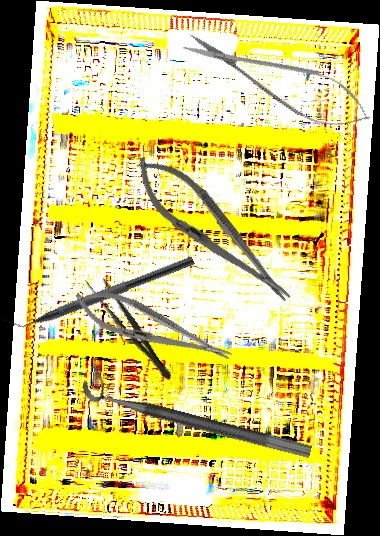Chopper: (1, 243, 196, 340)
Dressing Forceps: (81, 269, 179, 386)
Fixation Ring: (79, 363, 318, 461)
Micro Scissor: (176, 18, 379, 142)
Needle Holder: (120, 142, 305, 319), (67, 279, 238, 376)
